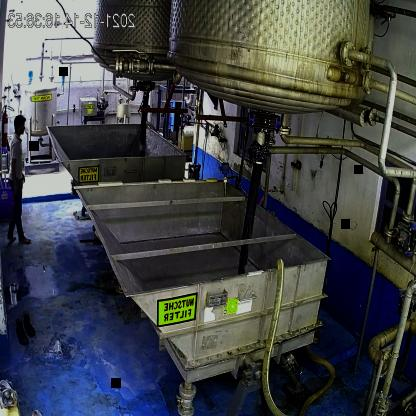no_shoes: (18, 229, 32, 249)
